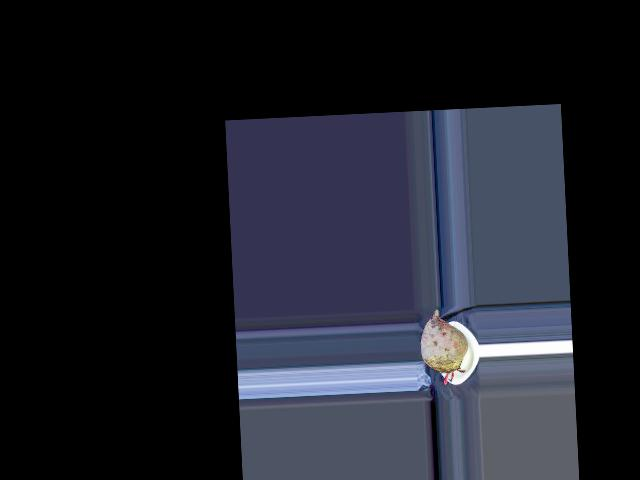beet: (419, 308, 470, 386)
